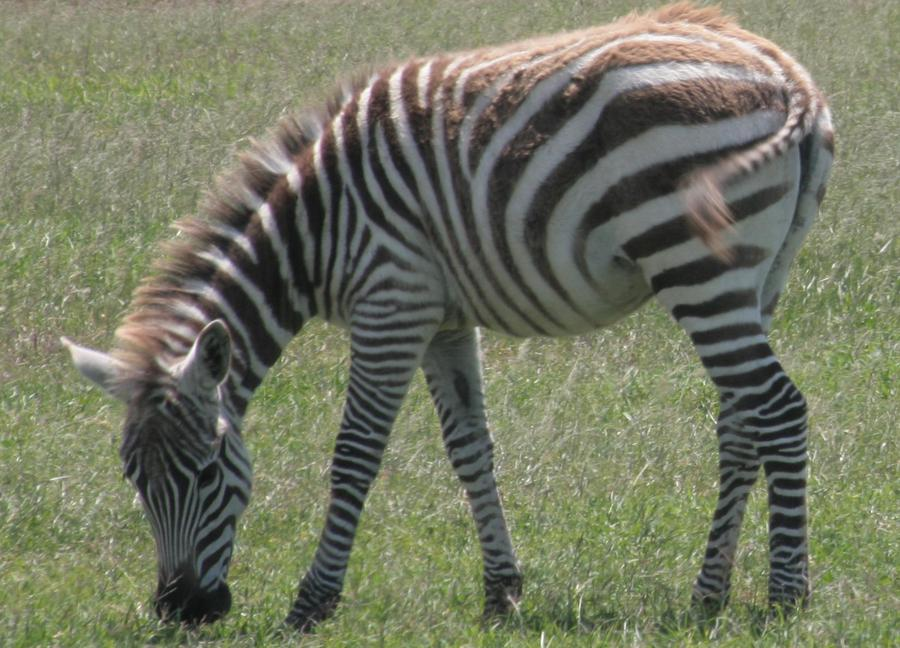zebra_plains: (272, 50, 807, 367)
